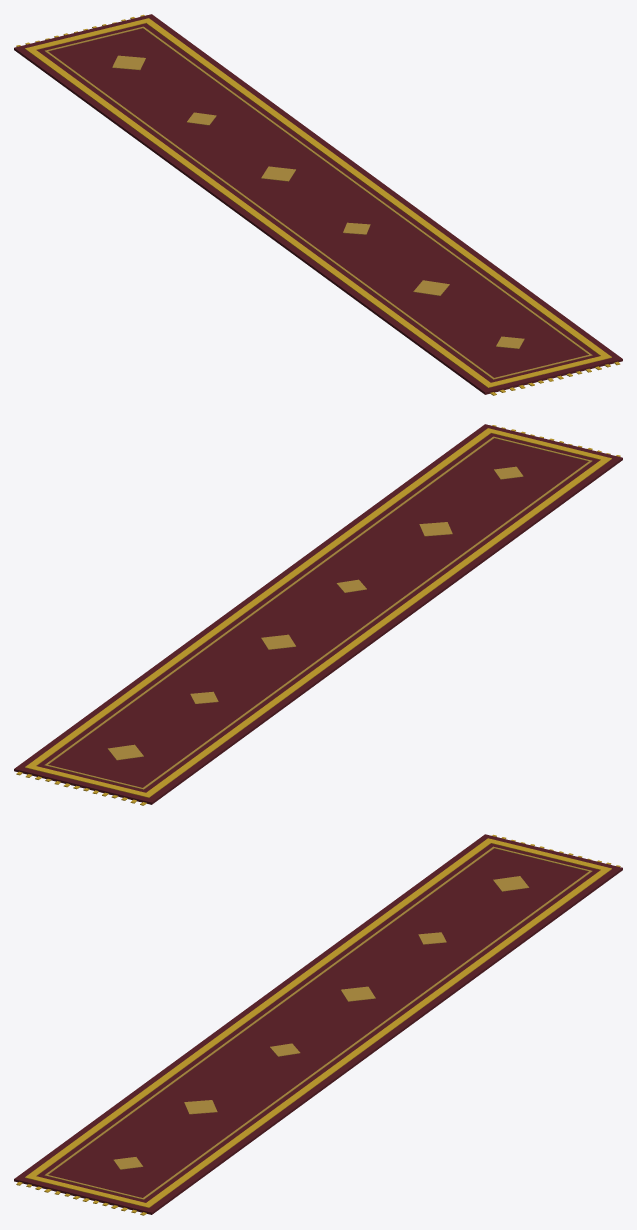
The model's file is Loper.glb.
3 views of the same model, one above another, from view 1: azimuth 30°, elevation 25°; view 2: azimuth 150°, elevation 25°; view 3: azimuth 330°, elevation 25° (orthographic).
Visible parts, largest first — view 1: Body, BorderAndTassels, BrassPattern; view 2: Body, BorderAndTassels, BrassPattern; view 3: Body, BorderAndTassels, BrassPattern.
Boxes of the visible parts, bbox=[...] form: Body: bbox=[14, 14, 622, 394]; BorderAndTassels: bbox=[16, 14, 620, 395]; BrassPattern: bbox=[44, 26, 592, 379]; Body: bbox=[14, 424, 622, 804]; BorderAndTassels: bbox=[16, 425, 620, 805]; BrassPattern: bbox=[44, 436, 592, 789]; Body: bbox=[14, 834, 622, 1214]; BorderAndTassels: bbox=[16, 834, 620, 1215]; BrassPattern: bbox=[44, 846, 592, 1199].
Bounding box in the file's own units: 1 × 0.02 × 6.
